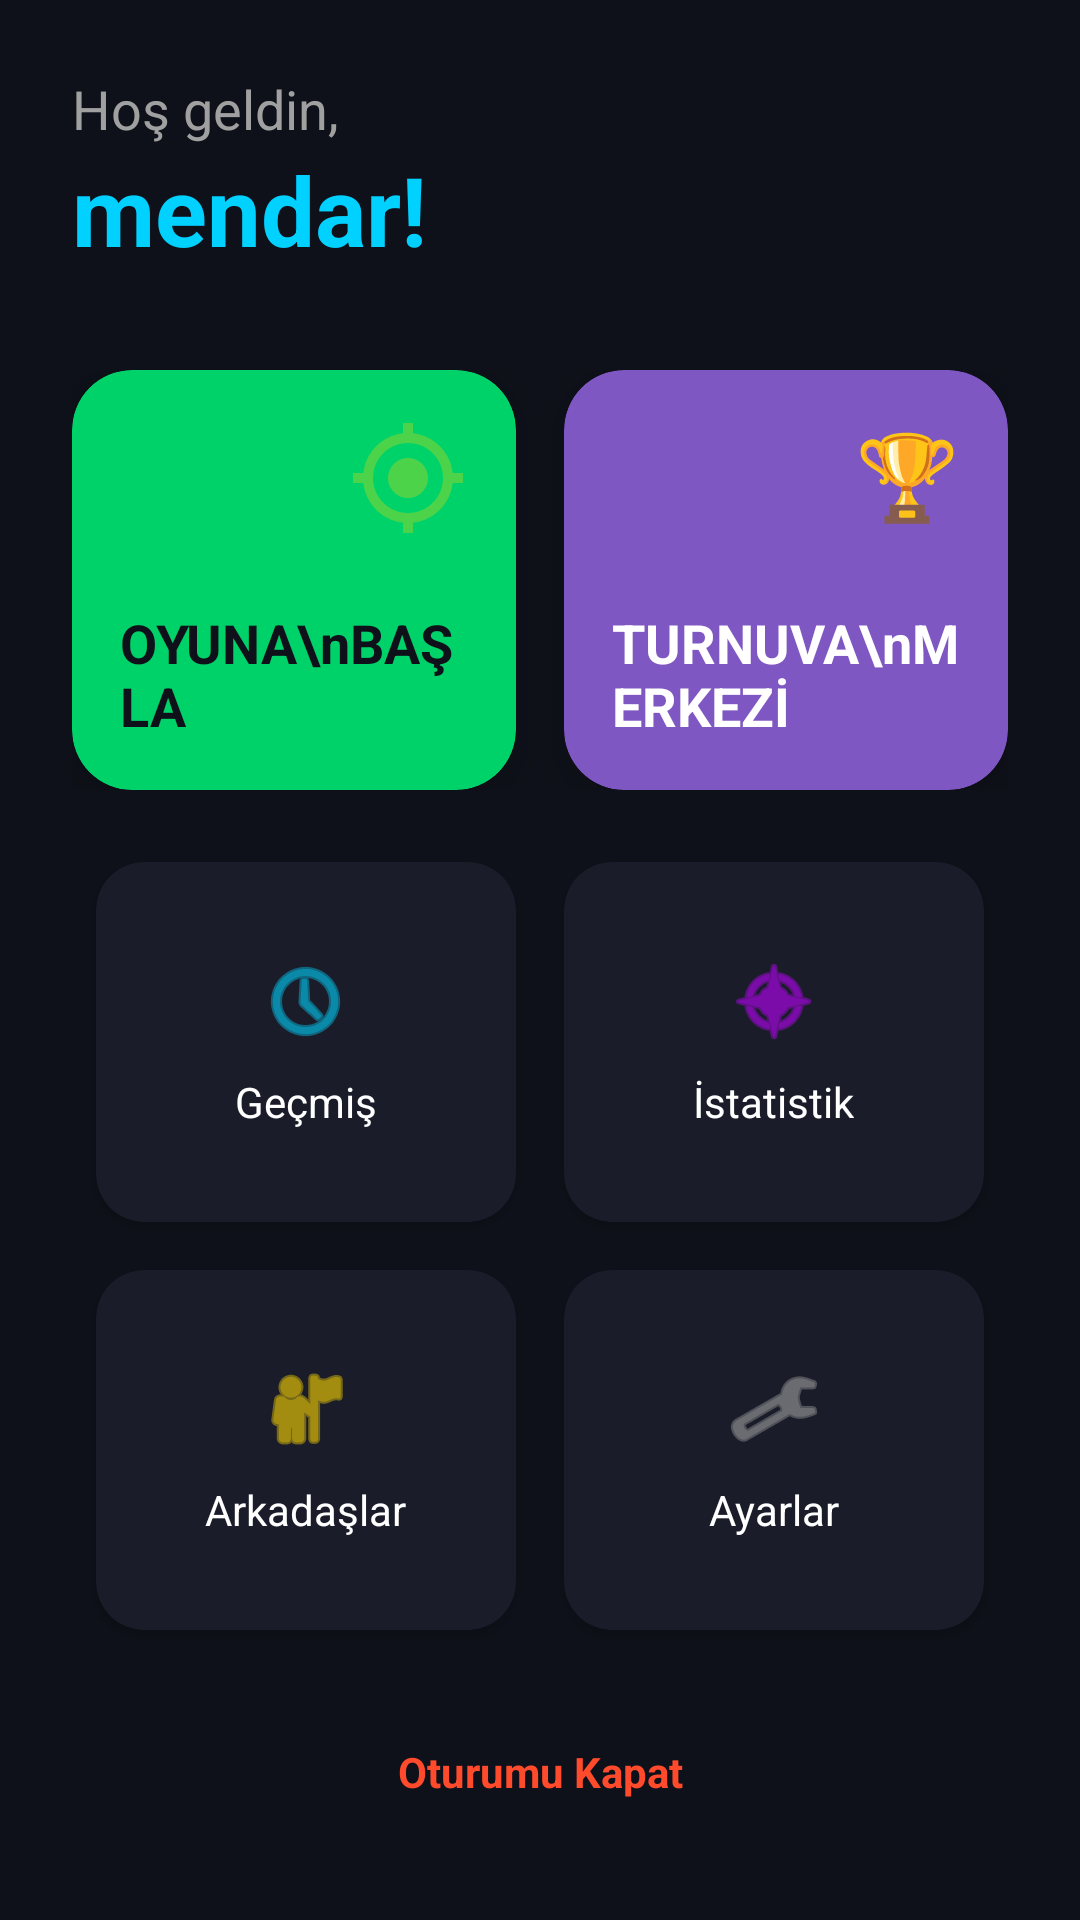

Named icons in this screenshot (1080px×1920px) and their bounding boxes, (x1, y1, x2, y2):
compass: (736, 964, 812, 1039)
manage: (731, 1376, 817, 1442)
myplaces: (271, 1373, 343, 1445)
recent history: (271, 967, 340, 1036)
target: (353, 423, 463, 533)
